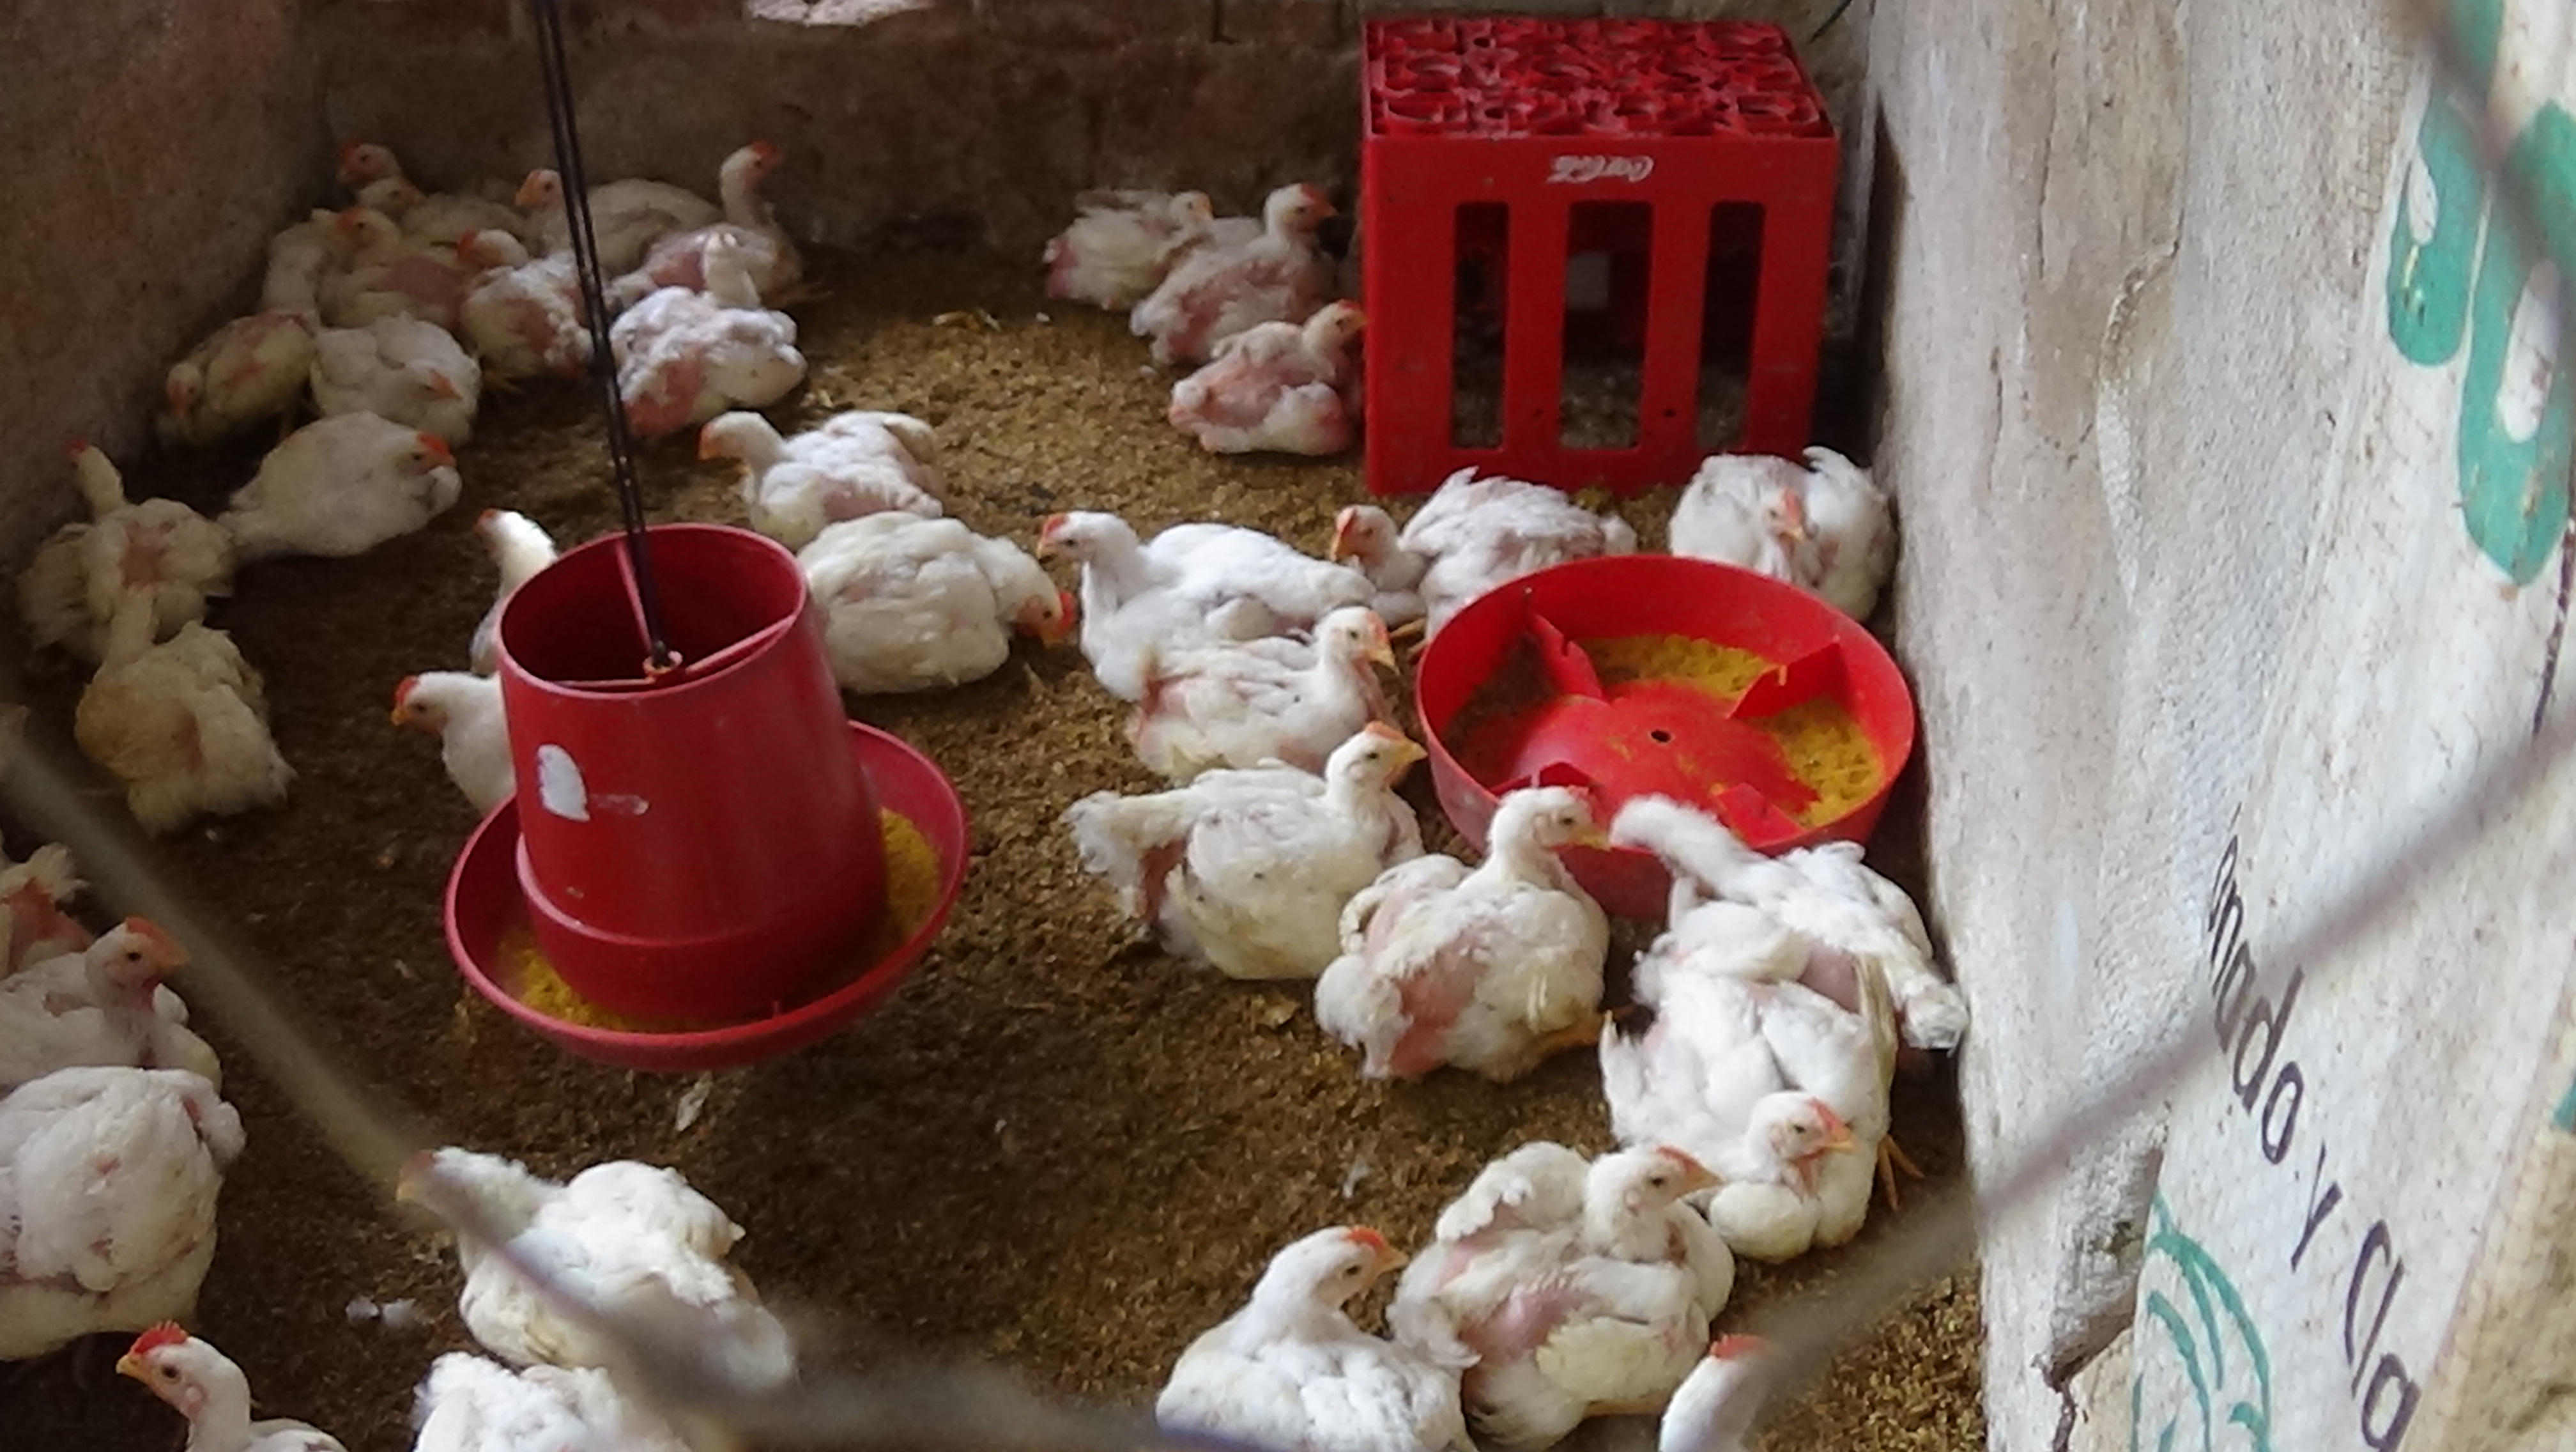Pollos: (352, 1116, 812, 1385), (1599, 908, 1932, 1261), (1385, 1128, 1732, 1452), (1070, 714, 1447, 993), (1313, 760, 1617, 1103), (1134, 1209, 1461, 1452), (0, 1071, 232, 1371), (74, 572, 333, 834), (1033, 498, 1368, 689), (793, 498, 1072, 726), (1100, 584, 1422, 777), (1313, 464, 1638, 641), (0, 420, 246, 639), (57, 1291, 387, 1452), (1654, 423, 1905, 632), (0, 912, 251, 1114), (598, 225, 805, 448), (665, 386, 973, 531), (1152, 301, 1398, 462), (1136, 170, 1343, 361), (372, 641, 566, 836), (228, 407, 462, 563), (644, 97, 830, 289), (996, 152, 1215, 312), (246, 161, 439, 319), (301, 106, 527, 234), (301, 306, 497, 448), (131, 306, 308, 459), (487, 142, 706, 262), (471, 228, 609, 404), (1637, 1319, 1813, 1452), (441, 489, 589, 641), (304, 204, 483, 310)
